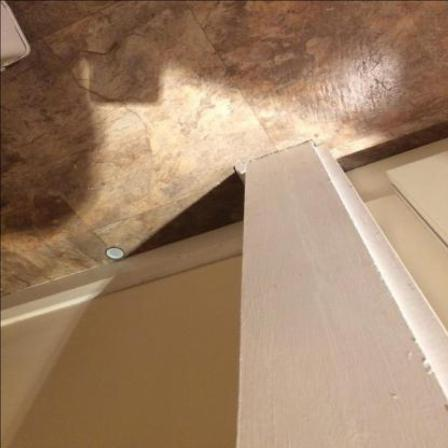Bottle cap: (105, 248, 125, 261)
